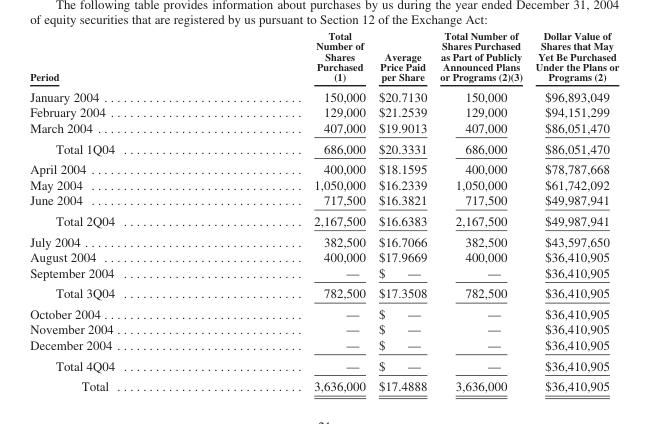table: (29, 29, 618, 393)
table column: (29, 29, 213, 393), (213, 29, 371, 393), (432, 29, 528, 393), (528, 29, 618, 393), (371, 29, 432, 393)
table column header: (29, 29, 618, 85)
table row: (29, 29, 618, 85), (29, 137, 618, 158), (29, 282, 618, 303), (29, 354, 618, 375), (29, 210, 618, 230), (29, 85, 618, 104), (29, 119, 618, 137), (29, 158, 618, 176), (29, 192, 618, 210), (29, 230, 618, 248), (29, 264, 618, 282), (29, 303, 618, 321), (29, 336, 618, 354), (29, 375, 618, 393), (29, 176, 618, 192), (29, 248, 618, 264), (29, 104, 618, 119), (29, 321, 618, 336)
